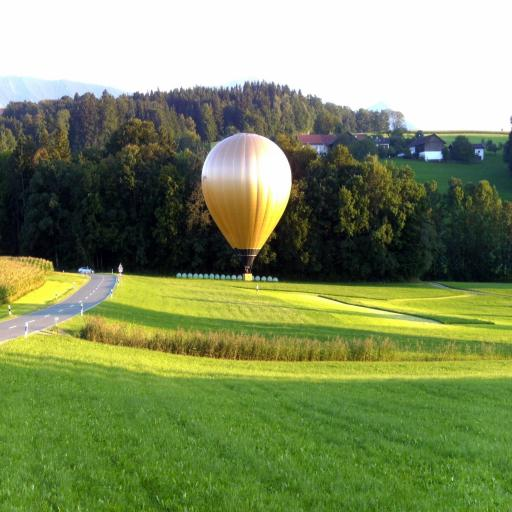hot air ballon: (201, 129, 292, 284)
